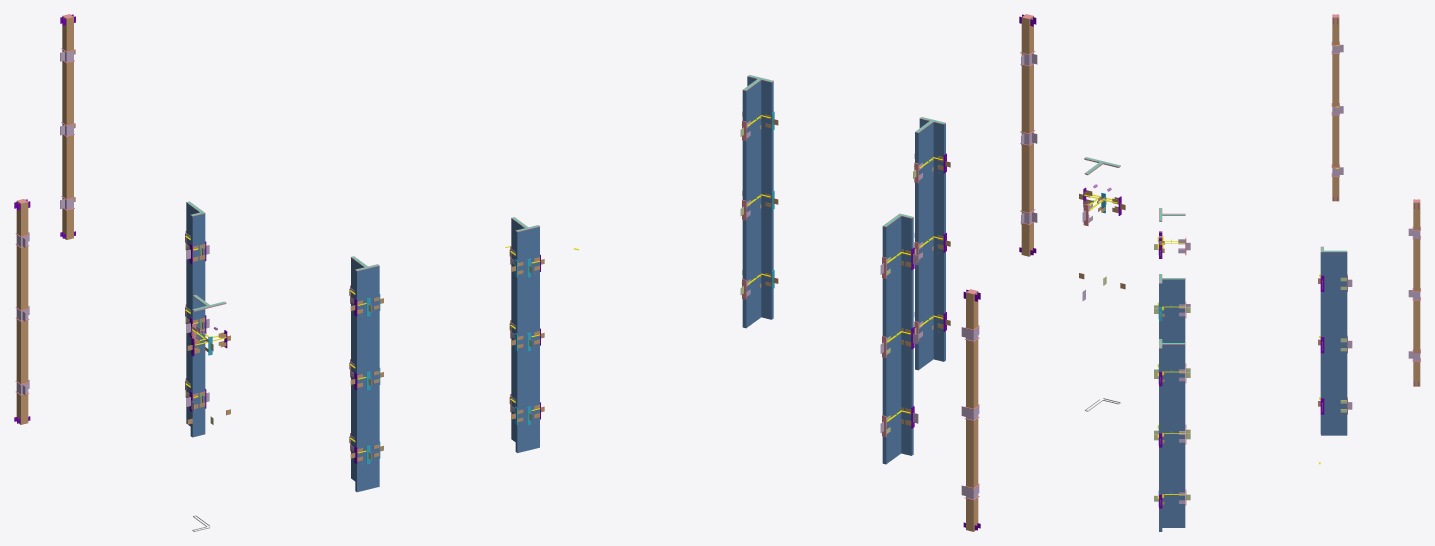
3 renders of one model, left to right at view 1: azimuth 30°, elevation 25°; view 2: azimuth 150°, elevation 25°; view 3: azimuth 270°, elevation 25°, orthographic. The views are drawn at different scales.
Parts seen in each view (by area): view 1: 18-5GSQ[1WL3xd000Vz34sCJOnCpKq], 18-5GSQ[1WKg2g003KDZ4sCJOmDJam], 18-5GSQ[1WKg2g0030C34sCJOmDJWo], 18-5GSQ[1WL3xd000VmJ4sCJOnCpKq], 18-5GSQ[1WKg2g003LHp4sCJOmDJam], 18-5GSQ[1WL3xd000U_34sCJOnCpKq], 18-5GSQ[1WKg2g0030nZ4sCJOmDJWo], 18-5GSQ[1WKg2g003KhZ4sCJOmDJam], 18-5GSQ[1WKg2g003LmZ4sCJOmDJan], 18-5GSQ[1WL3xd000UQJ4sCJOnCpKq], 18-5GZ[1WbTrB00DtTZ4sCZ0qDJSs], 18-5GZ[1UuPL0002Ro34rEJ4uD38v] (+5 smaller); view 2: 18-5GSQ[1WL3xd000Vz34sCJOnCpKq], 18-5GSQ[1WKg2g003KDZ4sCJOmDJam], 18-5GSQ[1WKg2g0030C34sCJOmDJWo], 18-5GSQ[1WL3xd000XJp4sCJOnCpKq], 18-5GSQ[1WKg2g0032AZ4sCJOmDJWo], 18-5GSQ[1WL3xd000VmJ4sCJOnCpKq], 18-5GSQ[1WKg2g003KhZ4sCJOmDJam], 18-5GSQ[1WKg2g003LxJ4sCJOmDJan], 18-5GSQ[1WKg2g0030nZ4sCJOmDJWo], 18-5GSQ[1WL3xd000WuJ4sCJOnCpKq], 18-5GSQ[1WKg2g003McJ4sCJOmDJan], 18-5GSQ[1WKg2g0031tZ4sCJOmDJWo] (+13 smaller); view 3: 18-5GSQ[1WKg2g0031jZ4sCJOmDJWo], 18-5GSQ[1WL3xd000WuJ4sCJOnCpKq], 18-5GSQ[1WKg2g0032AZ4sCJOmDJWo], 18-5GSQ[1WKg2g0031RJ4sCJOmDJWo], 18-5GSQ[1WKg2g0031tZ4sCJOmDJWo], 18-5GSQ[1WL3xd000Wo34sCJOnCpKq], 18-5GSQ[1WL3xd000Wdp4sCJOnCpKq], 18-5GSQ[1WKg2g0032334sCJOmDJWo], 18-5GSQ[1WL3xd000W$p4sCJOnCpKq], 18-5GSQ[1WL3xd000XJp4sCJOnCpKq], 18-5GSQ[1WL3xd000UQJ4sCJOnCpKq], 18-5GZ[1WbTrB00DtTZ4sCZ0qDJSs] (+5 smaller).
Boxes of the visible parts, bbox=[...] form: 18-5GSQ[1WL3xd000Vz34sCJOnCpKq]: bbox=[515, 231, 522, 452]; 18-5GSQ[1WKg2g003KDZ4sCJOmDJam]: bbox=[355, 270, 361, 492]; 18-5GSQ[1WKg2g0030C34sCJOmDJWo]: bbox=[190, 215, 197, 437]; 18-5GSQ[1WL3xd000VmJ4sCJOnCpKq]: bbox=[522, 230, 527, 451]; 18-5GSQ[1WKg2g003LHp4sCJOmDJam]: bbox=[374, 266, 379, 487]; 18-5GSQ[1WL3xd000U_34sCJOnCpKq]: bbox=[530, 228, 535, 449]; 18-5GSQ[1WKg2g0030nZ4sCJOmDJWo]: bbox=[197, 214, 202, 436]; 18-5GSQ[1WKg2g003KhZ4sCJOmDJam]: bbox=[362, 269, 366, 490]; 18-5GSQ[1WKg2g003LmZ4sCJOmDJan]: bbox=[370, 267, 374, 488]; 18-5GSQ[1WL3xd000UQJ4sCJOnCpKq]: bbox=[535, 227, 539, 448]; 18-5GZ[1WbTrB00DtTZ4sCZ0qDJSs]: bbox=[16, 245, 28, 310]; 18-5GZ[1UuPL0002Ro34rEJ4uD38v]: bbox=[16, 319, 28, 383]; 18-5GSQ[1WL3xd000Vz34sCJOnCpKq]: bbox=[766, 81, 773, 319]; 18-5GSQ[1WKg2g003KDZ4sCJOmDJam]: bbox=[938, 123, 945, 361]; 18-5GSQ[1WKg2g0030C34sCJOmDJWo]: bbox=[906, 217, 913, 455]; 18-5GSQ[1WL3xd000XJp4sCJOnCpKq]: bbox=[742, 89, 749, 328]; 18-5GSQ[1WKg2g0032AZ4sCJOmDJWo]: bbox=[882, 225, 889, 464]; 18-5GSQ[1WL3xd000VmJ4sCJOnCpKq]: bbox=[761, 80, 766, 318]; 18-5GSQ[1WKg2g003KhZ4sCJOmDJam]: bbox=[933, 122, 938, 360]; 18-5GSQ[1WKg2g003LxJ4sCJOmDJan]: bbox=[915, 131, 921, 370]; 18-5GSQ[1WKg2g0030nZ4sCJOmDJWo]: bbox=[901, 216, 906, 454]; 18-5GSQ[1WL3xd000WuJ4sCJOnCpKq]: bbox=[752, 85, 755, 323]; 18-5GSQ[1WKg2g003McJ4sCJOmDJan]: bbox=[924, 127, 927, 365]; 18-5GSQ[1WKg2g0031tZ4sCJOmDJWo]: bbox=[892, 221, 895, 459]; 18-5GSQ[1WKg2g0031jZ4sCJOmDJWo]: bbox=[1328, 252, 1333, 435]; 18-5GSQ[1WL3xd000WuJ4sCJOnCpKq]: bbox=[1171, 344, 1176, 527]; 18-5GSQ[1WKg2g0032AZ4sCJOmDJWo]: bbox=[1342, 252, 1347, 435]; 18-5GSQ[1WKg2g0031RJ4sCJOmDJWo]: bbox=[1324, 252, 1328, 435]; 18-5GSQ[1WKg2g0031tZ4sCJOmDJWo]: bbox=[1333, 252, 1337, 435]; 18-5GSQ[1WL3xd000Wo34sCJOnCpKq]: bbox=[1167, 344, 1171, 527]; 18-5GSQ[1WL3xd000Wdp4sCJOnCpKq]: bbox=[1162, 344, 1166, 527]; 18-5GSQ[1WKg2g0032334sCJOmDJWo]: bbox=[1338, 252, 1342, 435]; 18-5GSQ[1WL3xd000W$p4sCJOnCpKq]: bbox=[1176, 344, 1180, 527]; 18-5GSQ[1WL3xd000XJp4sCJOnCpKq]: bbox=[1181, 344, 1185, 527]; 18-5GSQ[1WL3xd000UQJ4sCJOnCpKq]: bbox=[1159, 348, 1162, 531]; 18-5GZ[1WbTrB00DtTZ4sCZ0qDJSs]: bbox=[1413, 239, 1420, 291].
Size of the model in its own units: 18.13 by 17.4 by 11.45.
